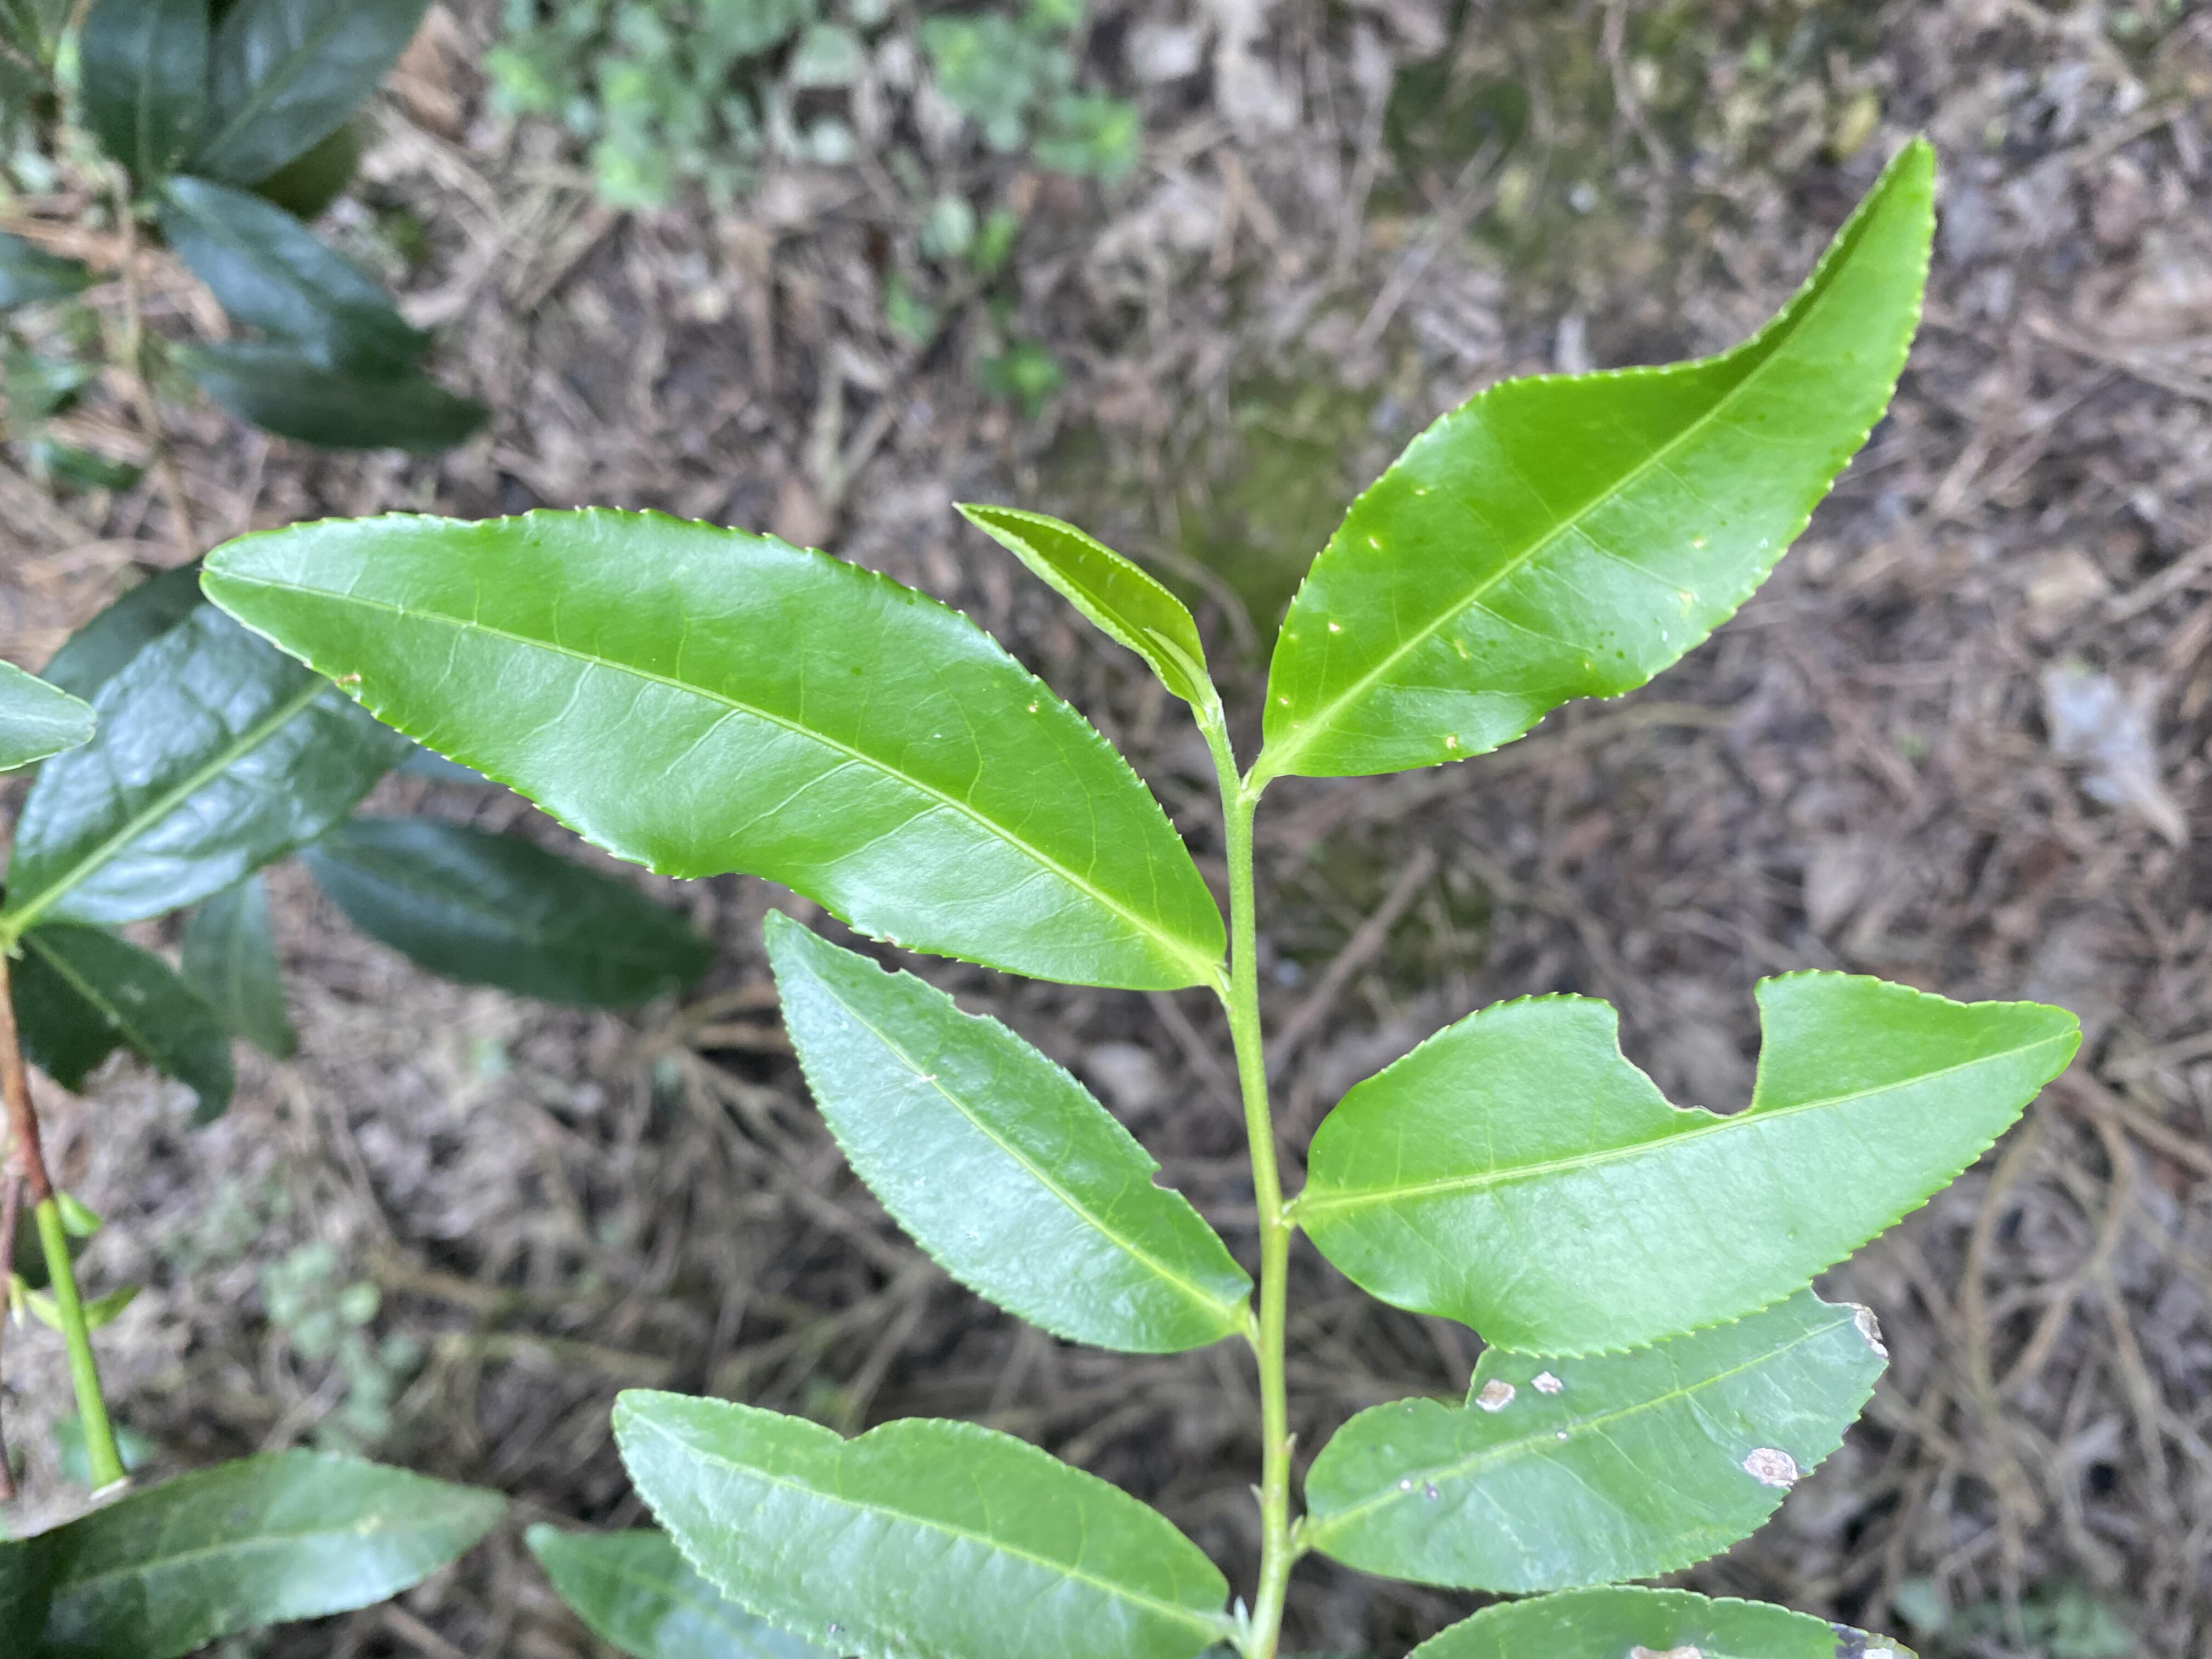chihuo_high: (761, 908, 1252, 1359)
chihuo_low: (1296, 967, 2087, 1361)
healthy: (195, 500, 1226, 995), (1259, 134, 1940, 784), (606, 1387, 1231, 1659)
tanju_high: (1303, 1290, 1895, 1596)
